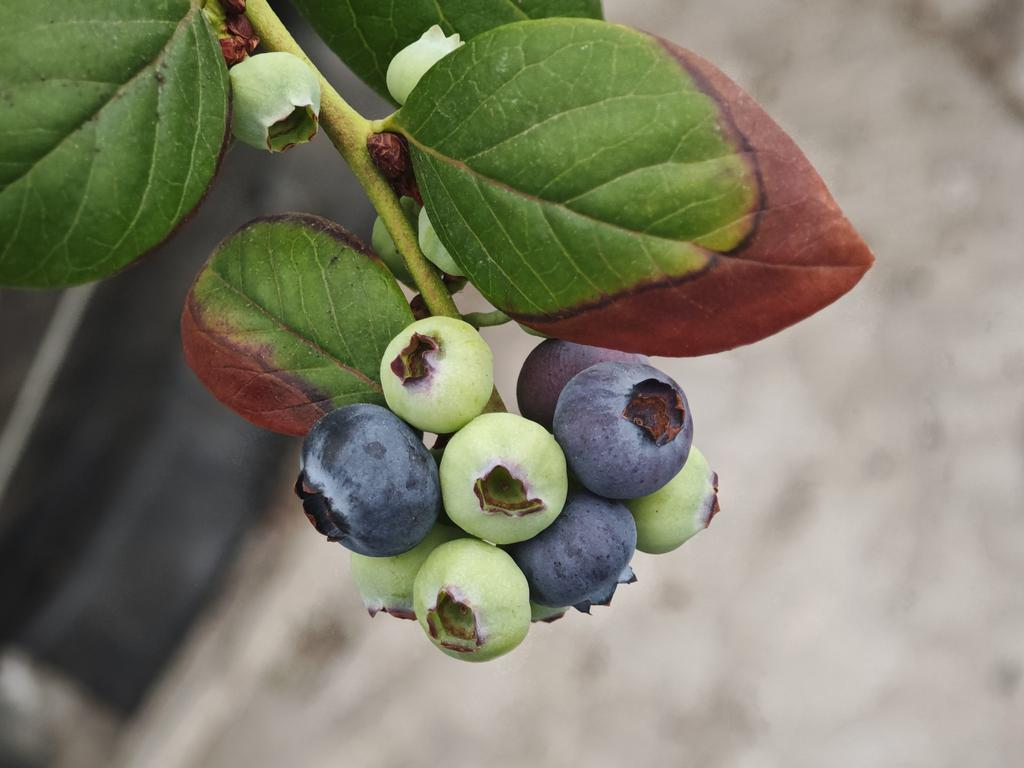RipeBlueBerry: (294, 398, 444, 560), (552, 358, 695, 506)
UnripeBlueBerry: (437, 408, 573, 549), (409, 538, 535, 664), (379, 313, 499, 434)
